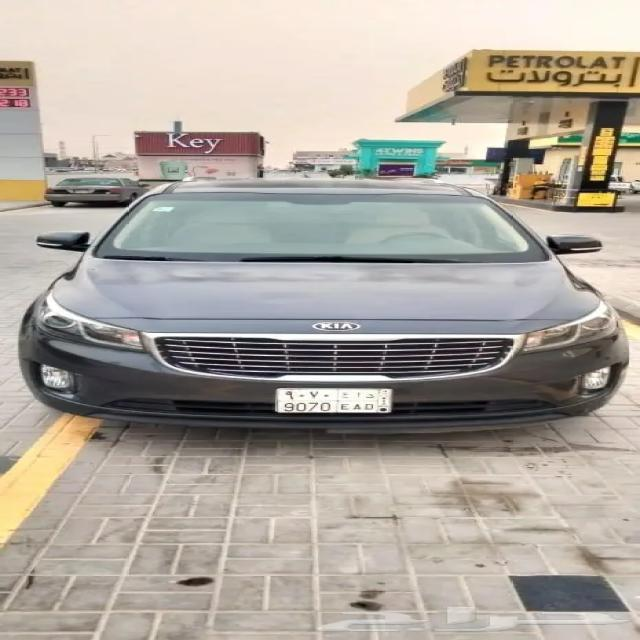license_plate: (276, 400, 380, 413)
